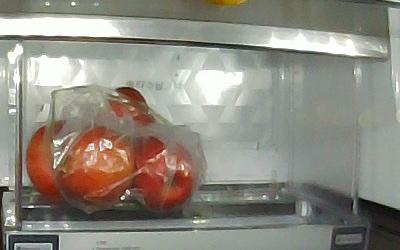apple_vinyl: (59, 128, 133, 205), (130, 136, 193, 211), (24, 120, 66, 202), (92, 87, 155, 129)
